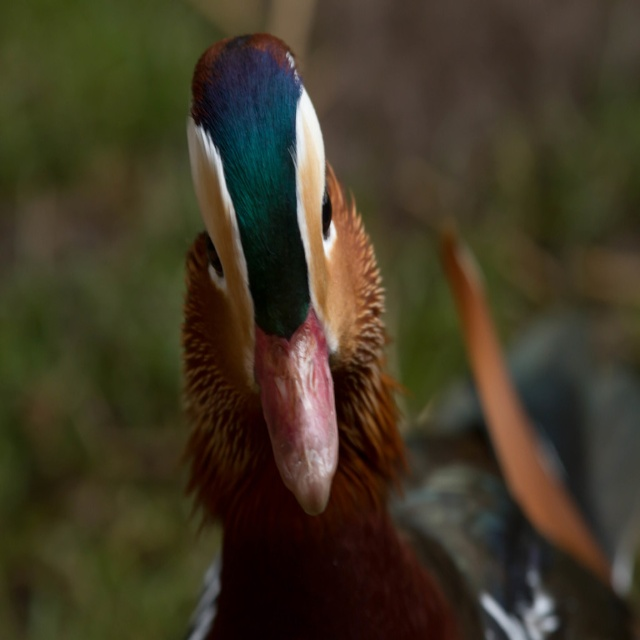Duck: (166, 47, 395, 586)
